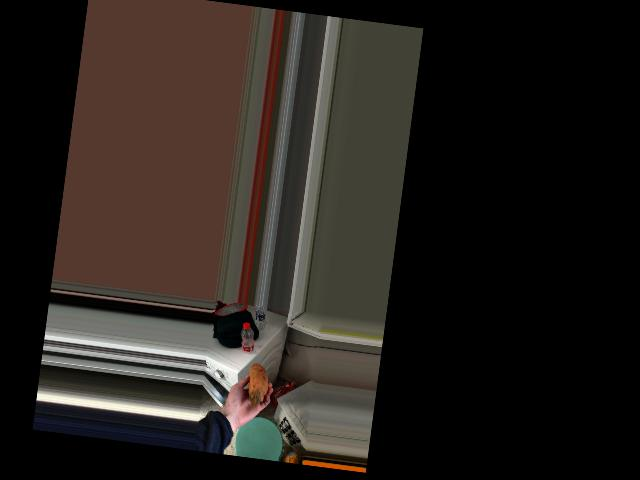sweet_potato: (246, 353, 270, 403)
